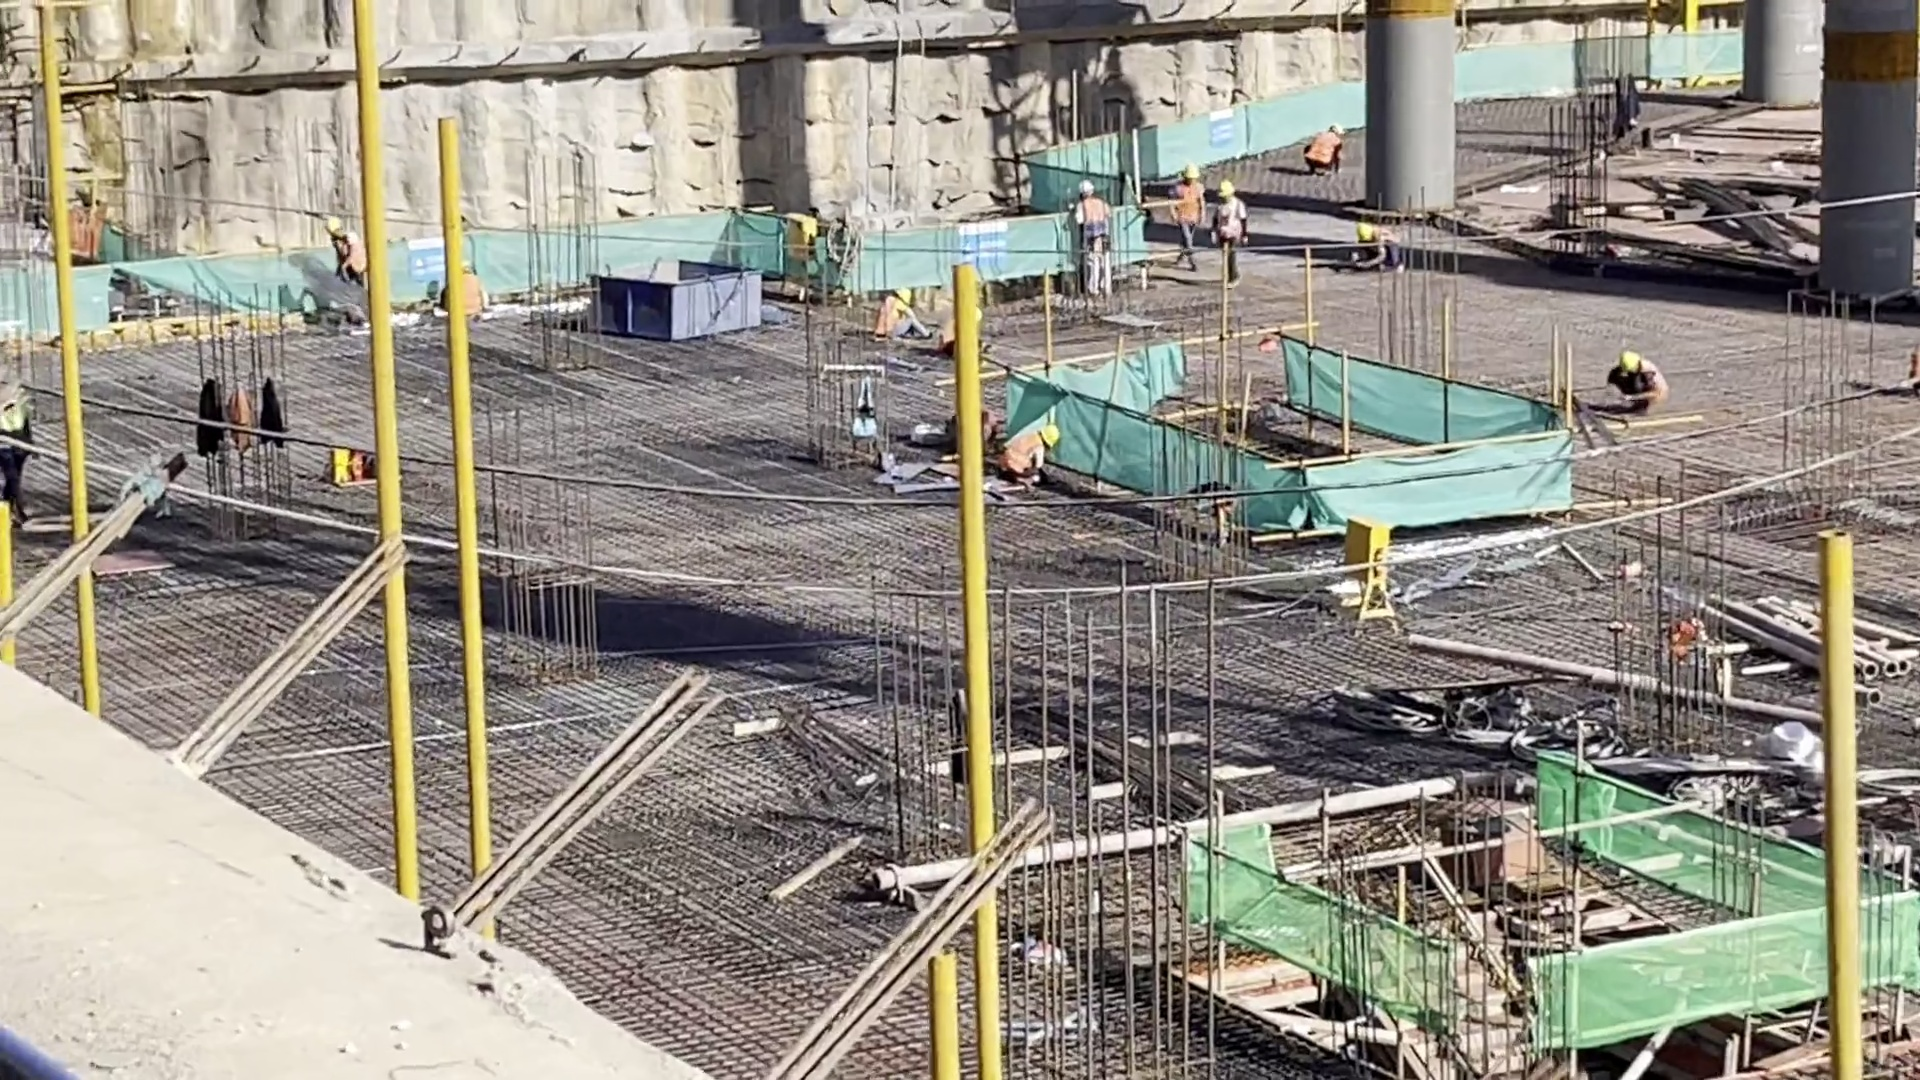helmet: (1038, 424, 1059, 448), (1619, 352, 1640, 374), (894, 288, 912, 304), (1217, 180, 1235, 196), (1355, 224, 1373, 241), (325, 217, 342, 233), (1183, 164, 1200, 179)
person: (1069, 179, 1112, 291), (1609, 351, 1671, 415), (1211, 183, 1248, 292), (1168, 166, 1207, 266), (1, 395, 29, 531), (1004, 425, 1060, 483), (325, 217, 366, 288), (870, 287, 918, 345), (1301, 123, 1344, 175)
vest: (338, 233, 365, 274), (1006, 433, 1036, 470), (1173, 184, 1198, 226), (1640, 360, 1665, 395), (1083, 196, 1109, 229), (1311, 137, 1339, 168), (871, 301, 897, 333)
